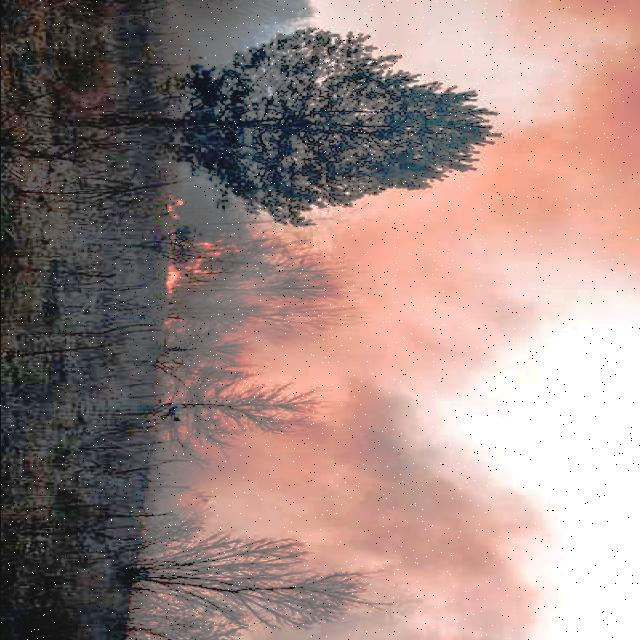api: (165, 238, 241, 294), (165, 194, 183, 220)
asap: (321, 394, 549, 638), (256, 209, 531, 385), (500, 3, 637, 351), (154, 421, 326, 545)
